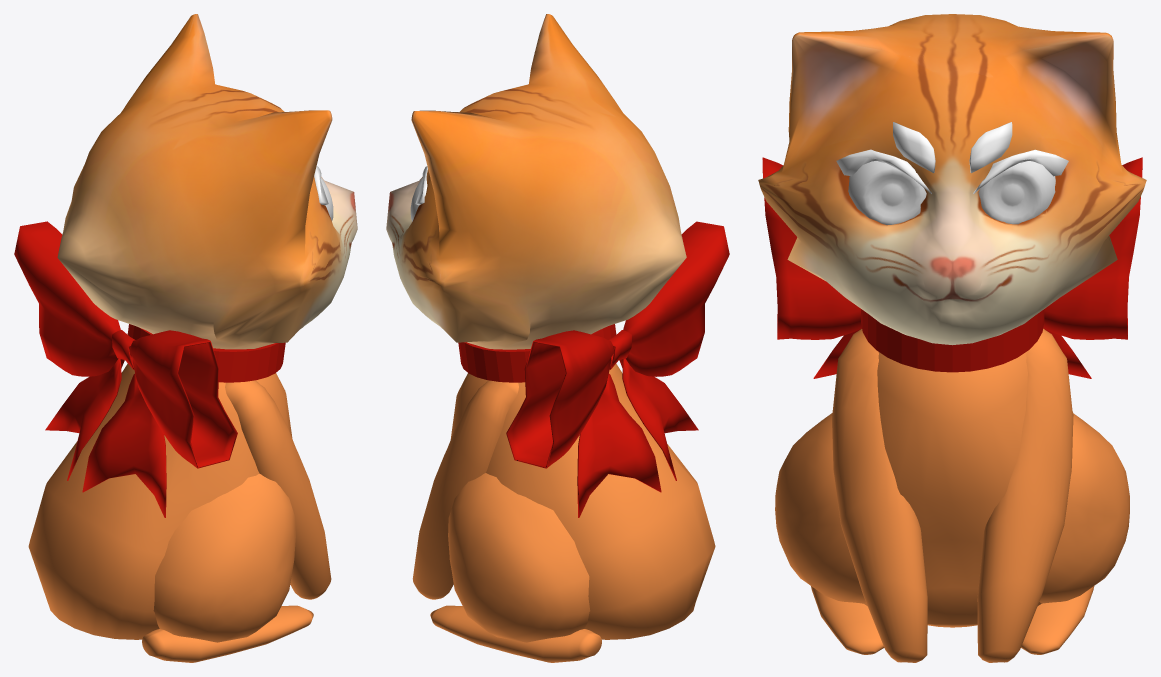
Rendered from bettercat.fbx.
3 renders of one model, left to right at view 1: azimuth 30°, elevation 25°; view 2: azimuth 150°, elevation 25°; view 3: azimuth 270°, elevation 25°, orthographic. The views are drawn at different scales.
Visible parts, largest first — view 1: head, body, bow; view 2: head, body, bow; view 3: body, head, bow, brows, eyeR, eyeL.
Part boxes in pixels (left/top/right/bottom): head: left=57, top=14, right=357, bottom=349; body: left=28, top=363, right=331, bottom=662; bow: left=14, top=221, right=285, bottom=517; head: left=386, top=14, right=686, bottom=349; body: left=412, top=363, right=715, bottom=662; bow: left=458, top=221, right=729, bottom=517; body: left=775, top=328, right=1129, bottom=662; head: left=758, top=14, right=1146, bottom=345; bow: left=762, top=157, right=1142, bottom=378; brows: left=836, top=122, right=1068, bottom=193; eyeR: left=848, top=161, right=926, bottom=225; eyeL: left=978, top=161, right=1055, bottom=224.
Bounding box in the file's own units: 267 × 453 × 256.
6 materials, 1 textured.
